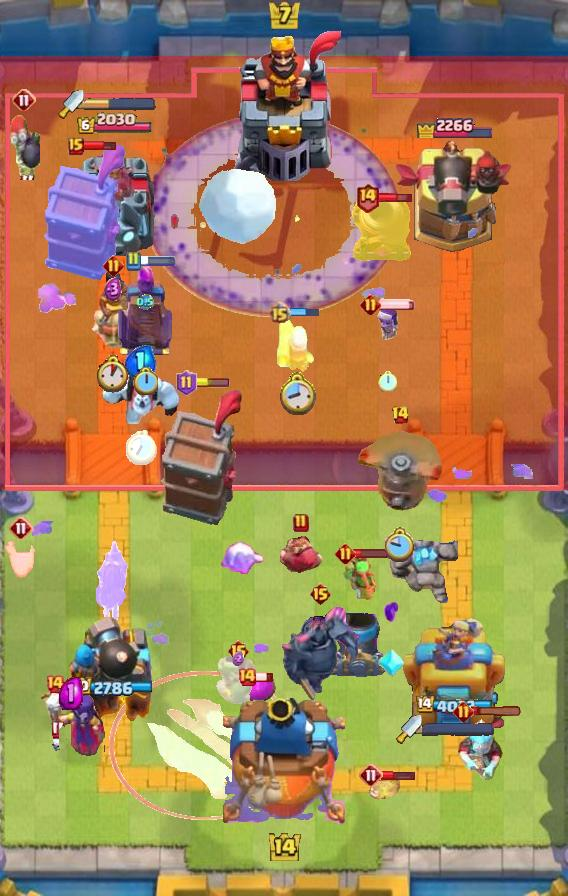axe: (37, 689, 105, 757)
bar: (402, 615, 507, 731), (70, 142, 158, 256)
bowler: (277, 533, 325, 575)
dark-prince: (358, 429, 442, 517)
dart-goblin: (43, 143, 127, 281), (160, 388, 244, 526)
electro-spirit: (125, 345, 157, 379), (59, 678, 83, 711), (104, 278, 122, 303), (136, 294, 154, 310), (232, 651, 244, 665)
elite-barbarian: (90, 268, 136, 348)
elixir: (277, 370, 316, 414), (95, 355, 131, 393), (384, 527, 415, 561), (127, 431, 157, 465), (133, 367, 158, 395), (379, 370, 398, 392)
emote: (471, 707, 523, 718), (81, 139, 117, 152), (378, 191, 414, 204), (378, 298, 416, 310), (353, 549, 389, 560), (380, 770, 415, 781), (139, 256, 177, 266), (194, 378, 230, 388), (288, 306, 320, 317), (254, 671, 274, 683)
flying-machine: (215, 653, 261, 709)
giant-snowball: (338, 553, 382, 601)
goblin: (374, 306, 400, 342)
goblin-ball: (96, 530, 132, 624)
goblin-cage: (349, 194, 413, 264)
golemite: (278, 604, 362, 702)
ice-golem: (8, 114, 40, 180)
ice-spirit-evolution: (4, 541, 38, 579), (367, 776, 401, 802)
ice-spirit-evolution-symbol: (115, 265, 175, 357)
ice-wizard: (109, 671, 299, 820)
king-tower: (223, 31, 345, 181), (223, 698, 345, 826)
king-tower-bar: (84, 97, 156, 111), (422, 722, 494, 736)
miner: (245, 673, 277, 703)
mirror: (216, 542, 266, 580)
mortar: (456, 716, 504, 780)
musketeer: (328, 613, 388, 677)
pad_2: (377, 647, 405, 679)
rage: (101, 370, 181, 424)
rocket: (146, 113, 402, 317)
selected: (414, 112, 494, 138), (75, 112, 152, 136), (73, 677, 155, 699), (414, 696, 492, 716)
text: (355, 182, 380, 213), (12, 88, 36, 112), (9, 516, 33, 540), (359, 763, 383, 787), (308, 582, 331, 606), (226, 639, 249, 663), (176, 370, 197, 396), (269, 300, 292, 323), (103, 255, 124, 277), (335, 544, 357, 565), (453, 701, 474, 723), (359, 294, 380, 315), (237, 667, 257, 687), (45, 674, 65, 694), (390, 405, 409, 425), (125, 251, 141, 271), (293, 513, 309, 533), (68, 137, 84, 155)
tombstone: (275, 316, 317, 374)
tower-bar: (392, 138, 514, 256), (64, 615, 164, 731)
valkyrie-evolution: (386, 539, 458, 609)
wall-breaker: (196, 167, 278, 246)
